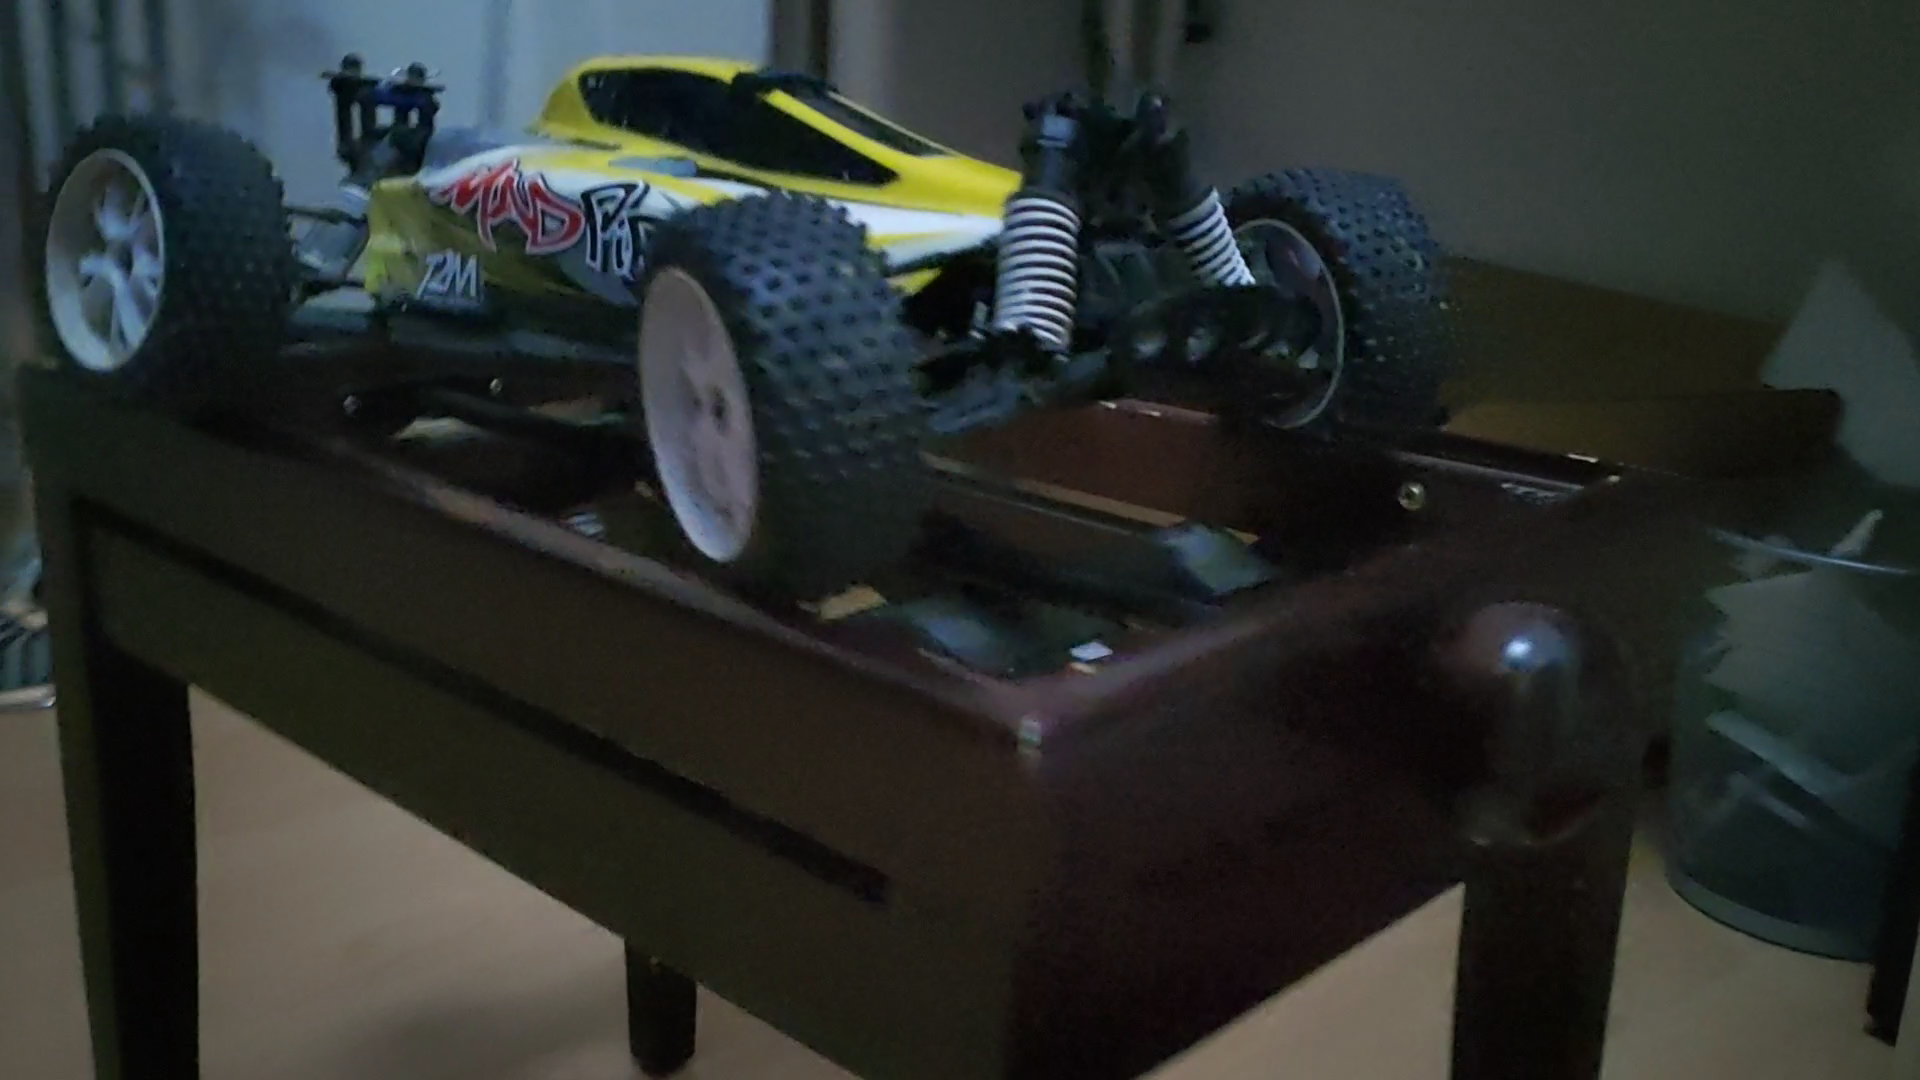buggy: (1, 55, 1452, 588)
